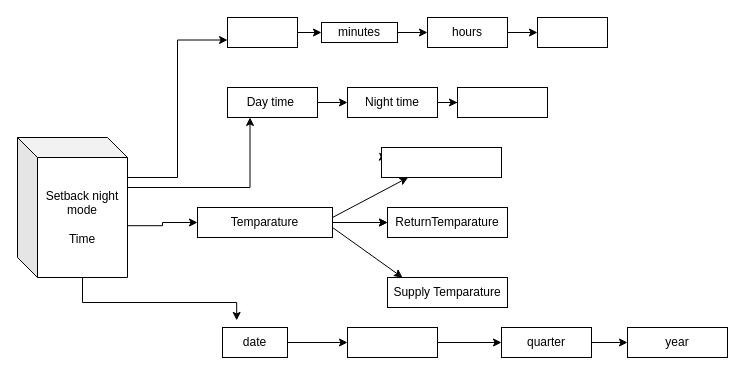
This 745x375 diagram has some shape labels left out. Each missing label, with the centre of its shape:
"days" belongs at point (572, 32).
"month" belongs at point (392, 342).
"OutsiideTemparature" belongs at point (441, 162).
"seconds" belongs at point (262, 32).
"Time" belongs at point (502, 102).
